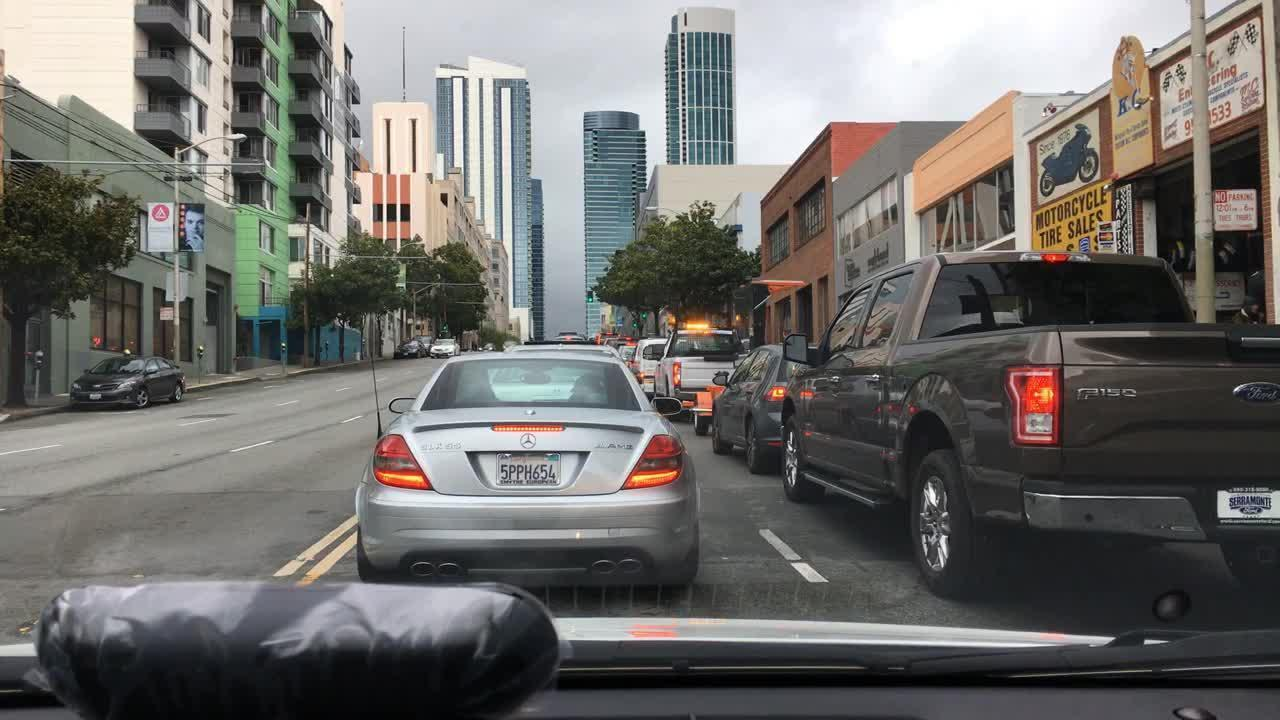Mercedes: (514, 428, 548, 451)
ford: (1215, 370, 1280, 405)
